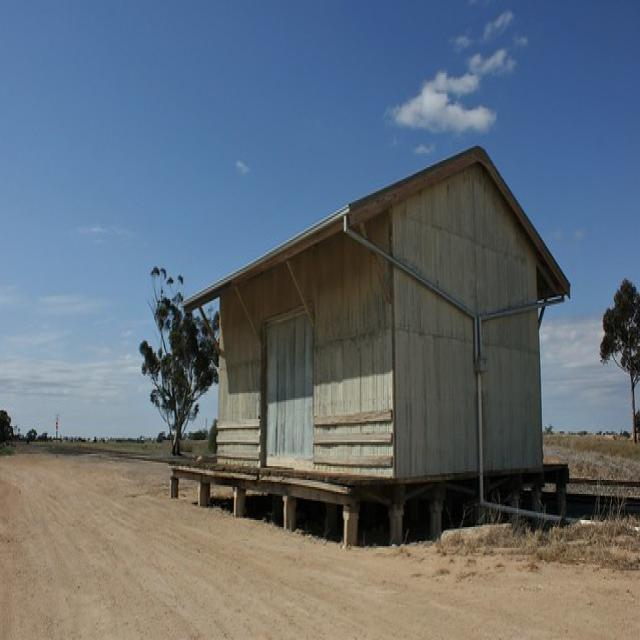building: (174, 138, 575, 556)
